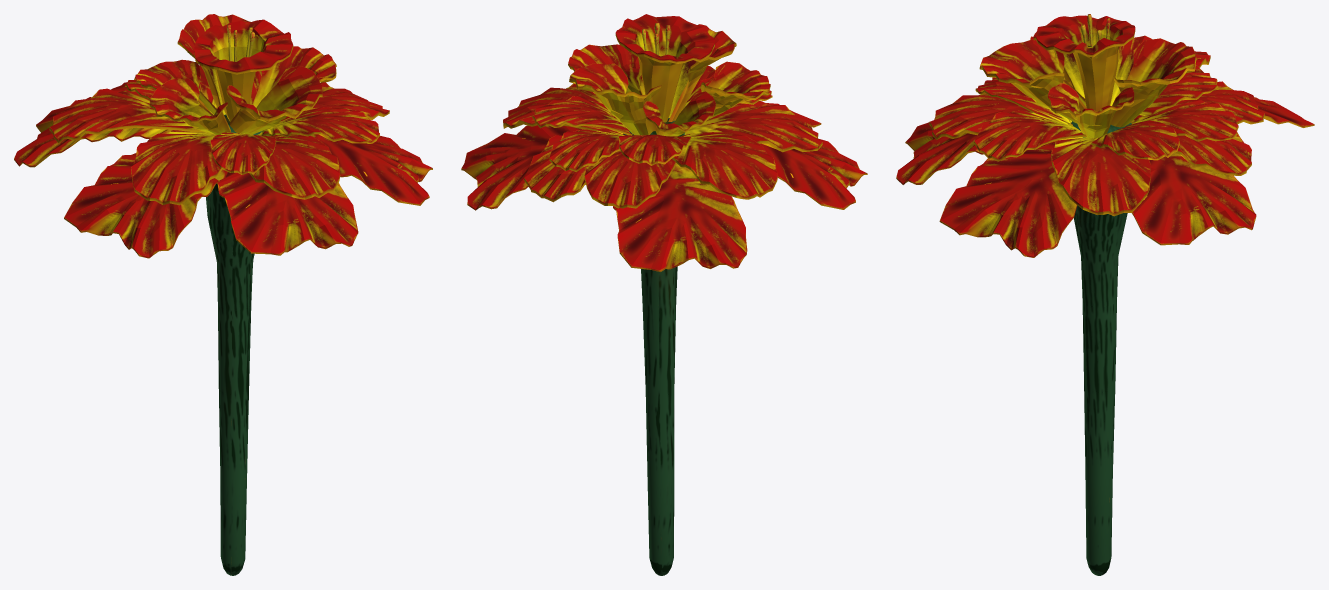
File: Flower_low_complete.fbx
3 views of the same model, side by side, from view 1: azimuth 30°, elevation 25°; view 2: azimuth 150°, elevation 25°; view 3: azimuth 270°, elevation 25° (orthographic). The views are drawn at different scales.
Parts seen in each view (by area): view 1: Flower_Low_Complete; view 2: Flower_Low_Complete; view 3: Flower_Low_Complete.
Boxes of the visible parts, left/top/right/bottom form: Flower_Low_Complete: left=14, top=14, right=432, bottom=575; Flower_Low_Complete: left=461, top=14, right=867, bottom=575; Flower_Low_Complete: left=896, top=14, right=1314, bottom=575.
Size of the model in its own units: 5.69 by 8.75 by 5.93.
